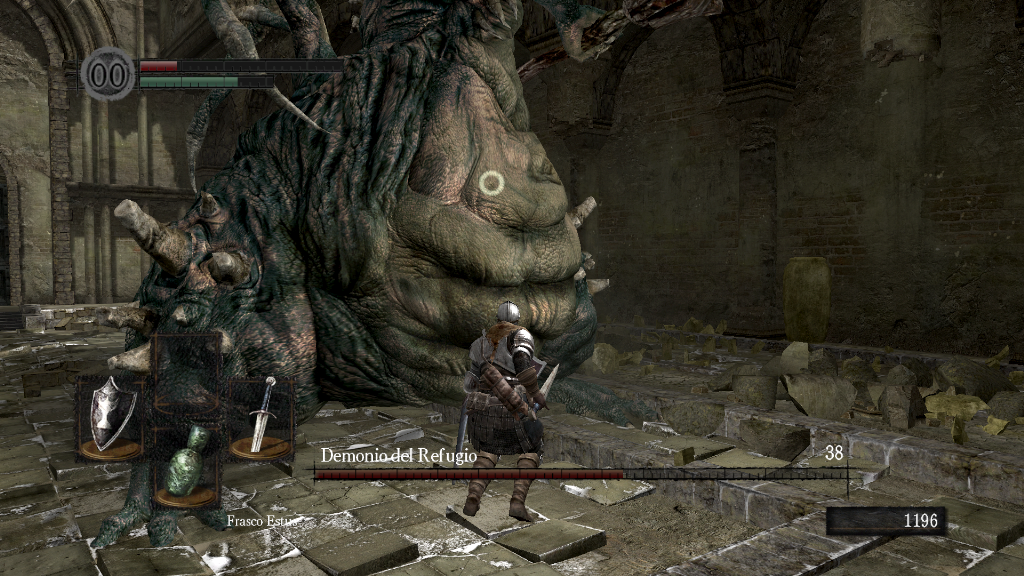asylumDemon: (89, 1, 618, 546)
bossHP: (314, 469, 847, 479)
health: (138, 58, 343, 71)
humanity: (80, 45, 136, 102)
player: (464, 298, 562, 521)
souls: (825, 506, 945, 536)
stamina: (138, 74, 274, 88)
